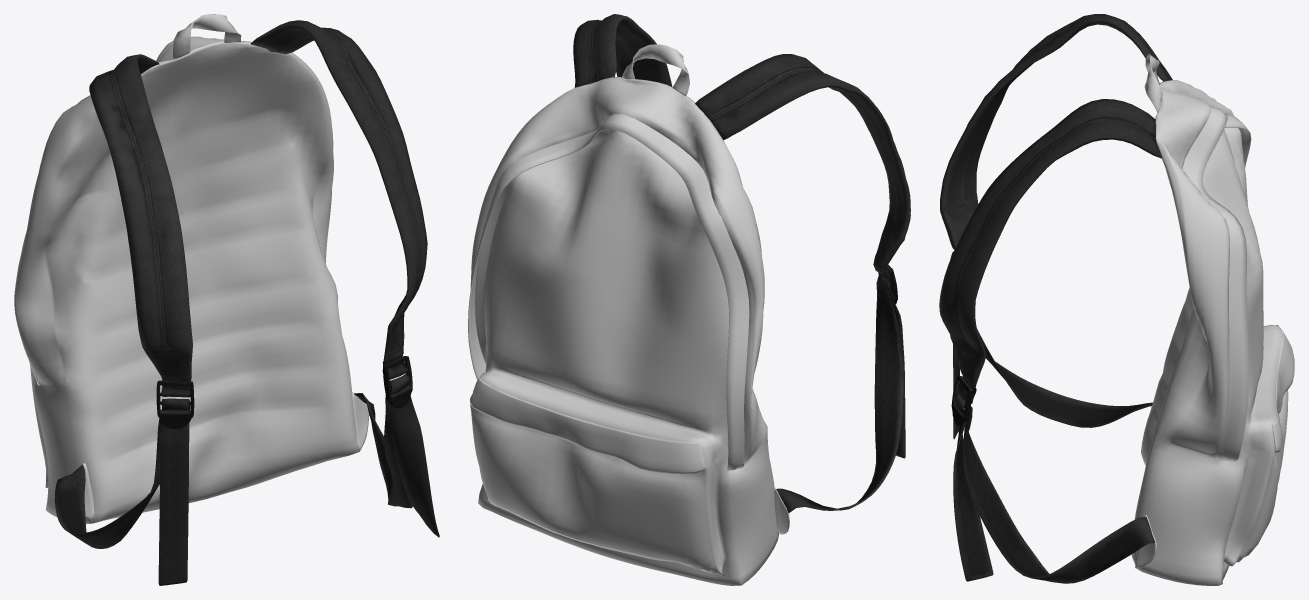
The model's file is backpack2.FBX.
3 renders of one model, left to right at view 1: azimuth 30°, elevation 25°; view 2: azimuth 150°, elevation 25°; view 3: azimuth 270°, elevation 25°, orthographic. The views are drawn at different scales.
Visible parts, largest first — view 1: backpack, backpack_strap; view 2: backpack, backpack_strap; view 3: backpack, backpack_strap.
Part boxes in pixels (<box>): backpack: <box>14,14,369,523</box>; backpack_strap: <box>54,20,439,585</box>; backpack: <box>468,44,789,585</box>; backpack_strap: <box>573,14,910,512</box>; backpack: <box>1131,54,1294,585</box>; backpack_strap: <box>939,14,1172,583</box>.
Size of the model in its own units: 13.77 by 19.46 by 13.
